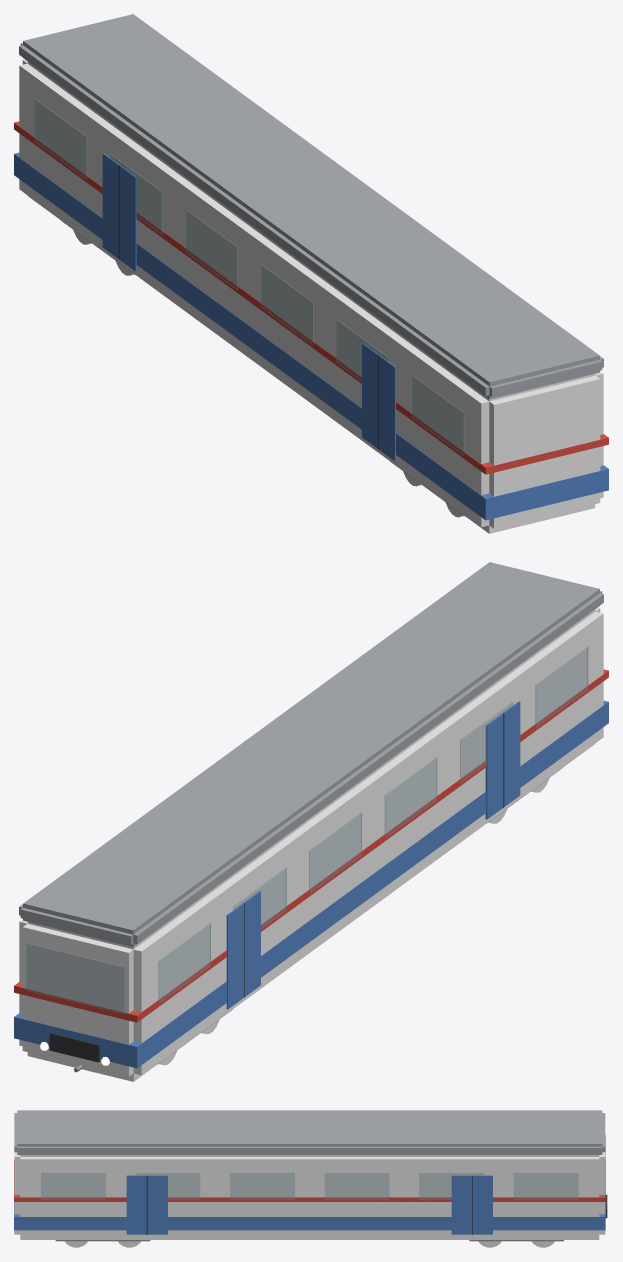
The model's file is train_car.glb.
3 views of the same model, one above another, from view 1: azimuth 30°, elevation 25°; view 2: azimuth 150°, elevation 25°; view 3: azimuth 270°, elevation 25° (orthographic). The views are drawn at different scales.
Parts seen in each view (by area): view 1: train_car; view 2: train_car; view 3: train_car.
Part boxes in pixels (<box>): train_car: <box>14,14,608,533</box>; train_car: <box>14,562,608,1081</box>; train_car: <box>14,1110,608,1247</box>.
Size of the model in its own units: 3.08 by 3.99 by 20.14.
